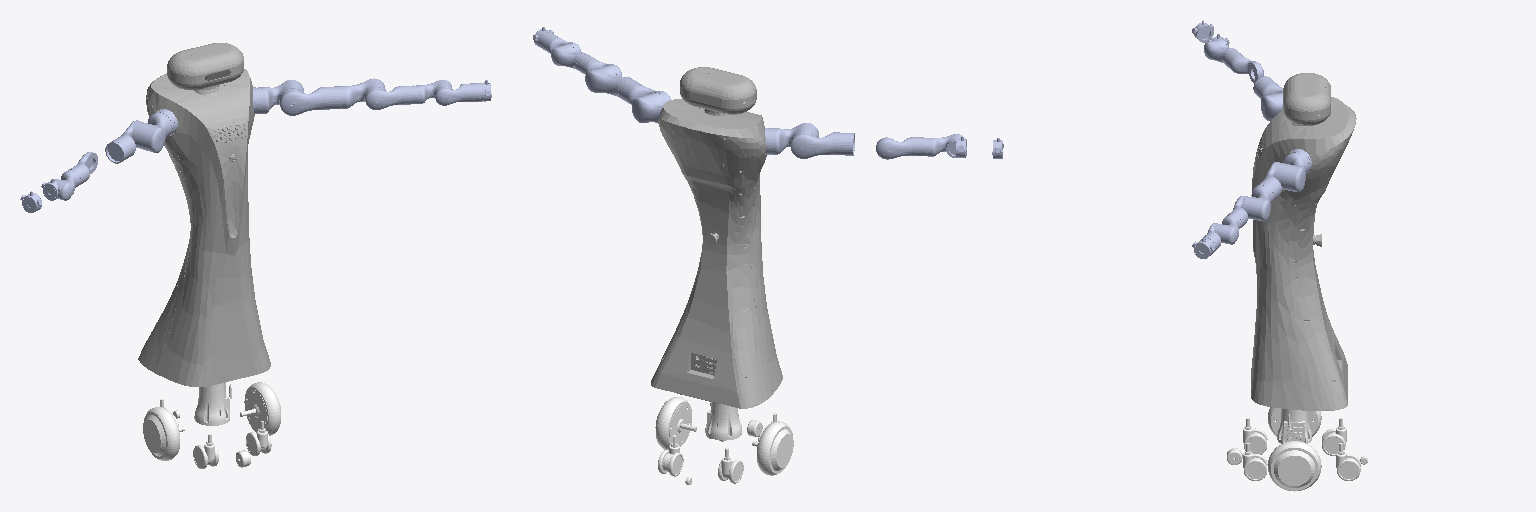
--- Render facts (derived) ---
Views: 3 orthographic renders of the robot side by side, from view 1: azimuth 30°, elevation 25°; view 2: azimuth 150°, elevation 25°; view 3: azimuth 270°, elevation 25°.
Model dual_rm_description with 61 links and 60 joints (40 revolute, 20 fixed), rooted at base_link, posed every joint at zero.
Visible links, largest first — view 1: body_base_link, head_link2, l_wheel_link, r_wheel_link, l_link2, base_link, r_link1, l_link4, l_link6, r_link2, l_link1, l_link3; view 2: body_base_link, head_link2, l_wheel_link, r_wheel_link, r_link2, base_link, r_link3, l_link3, l_link1, r_link1, l_link2, r_link5 (+1 smaller); view 3: body_base_link, head_link2, r_wheel_link, l_link1, base_link, l_link3, l_wheel_link, l_link5.
Boxes of the visible links, bbox=[...] form: body_base_link: bbox=[138, 69, 270, 386]; head_link2: bbox=[167, 43, 243, 89]; l_wheel_link: bbox=[143, 407, 184, 460]; r_wheel_link: bbox=[240, 382, 280, 435]; l_link2: bbox=[280, 86, 342, 115]; base_link: bbox=[194, 382, 231, 425]; r_link1: bbox=[131, 112, 172, 152]; l_link4: bbox=[365, 85, 417, 109]; l_link6: bbox=[435, 83, 481, 105]; r_link2: bbox=[105, 120, 140, 163]; l_link1: bbox=[259, 80, 304, 113]; l_link3: bbox=[342, 78, 385, 108]; body_base_link: bbox=[651, 99, 782, 408]; head_link2: bbox=[680, 67, 756, 114]; l_wheel_link: bbox=[752, 421, 793, 475]; r_wheel_link: bbox=[655, 397, 696, 449]; r_link2: bbox=[790, 132, 854, 158]; base_link: bbox=[707, 402, 741, 440]; r_link3: bbox=[876, 137, 928, 159]; l_link3: bbox=[585, 66, 631, 97]; l_link1: bbox=[632, 92, 665, 122]; r_link1: bbox=[770, 123, 818, 154]; l_link2: bbox=[618, 78, 670, 104]; r_link5: bbox=[929, 134, 961, 157]; body_base_link: bbox=[1251, 97, 1356, 410]; head_link2: bbox=[1283, 73, 1330, 125]; r_wheel_link: bbox=[1268, 441, 1321, 491]; l_link1: bbox=[1274, 152, 1309, 191]; base_link: bbox=[1277, 409, 1311, 443]; l_link3: bbox=[1241, 185, 1272, 221]; l_wheel_link: bbox=[1268, 407, 1321, 436]; l_link5: bbox=[1214, 215, 1240, 244].
Bounding box of the posed robot: 1.66 × 0.5527 × 1.32 m (x, y, z).
35 mesh visuals loaded from 61 distinct referenced files (35 binary STL); not drawn: 26 (reference not matched to a file when rendering).

robot.urdf — dual_rm_description:
<?xml version="1.0" encoding="utf-8"?>
<!-- This URDF was automatically created by SolidWorks to URDF Exporter! Originally created by Stephen Brawner ([email redacted]) 
     Commit Version: 1.6.0-4-g7f85cfe  Build Version: 1.6.7995.38578
     For more information, please see http://wiki.ros.org/sw_urdf_exporter -->
<robot name="dual_rm_description">
  <link name="body_base_link">
    <inertial>
      <origin xyz="9.1042E-05 0.0090147 0.4566" rpy="0 0 0" />
      <mass value="4.7837" />
      <inertia ixx="0.23517" ixy="-3.192E-05" ixz="-0.00010587" iyy="0.25285" iyz="-0.018085" izz="0.047071" />
    </inertial>
    <visual>
      <origin xyz="0 0 0" rpy="0 0 0" />
      <geometry>
        <mesh filename="package://meshes/body_base_link.STL" />
      </geometry>
      <material name="">
        <color rgba="0.75294 0.75294 0.75294 1" />
      </material>
    </visual>
    <collision>
      <origin xyz="0 0 0" rpy="0 0 0" />
      <geometry>
        <mesh filename="package://meshes/body_base_link.STL" />
      </geometry>
    </collision>
  </link>
  <link name="head_link1">
    <inertial>
      <origin xyz="0.0001875 0.00096505 -0.016651" rpy="0 0 0" />
      <mass value="0.045769" />
      <inertia ixx="1.3234E-05" ixy="8.4883E-10" ixz="-7.4126E-08" iyy="1.9277E-05" iyz="9.0908E-07" izz="1.087E-05" />
    </inertial>
    <visual>
      <origin xyz="0 0 0" rpy="0 0 0" />
      <geometry>
        <mesh filename="package://meshes/head_link1.STL" />
      </geometry>
      <material name="">
        <color rgba="0.75294 0.75294 0.75294 1" />
      </material>
    </visual>
    <collision>
      <origin xyz="0 0 0" rpy="0 0 0" />
      <geometry>
        <mesh filename="package://meshes/head_link1.STL" />
      </geometry>
    </collision>
  </link>
  <joint name="head_joint1" type="revolute">
    <origin xyz="0 0.0405 0.96325" rpy="0 0 3.1416" />
    <parent link="body_base_link" />
    <child link="head_link1" />
    <axis xyz="0 0 -1" />
    <limit lower="-1.256" upper="1.256" effort="2" velocity="1.57" />
  </joint>
  <link name="head_link2">
    <inertial>
      <origin xyz="0.00049959 0.0049121 0.034146" rpy="0 0 0" />
      <mass value="0.3269" />
      <inertia ixx="0.00049217" ixy="1.368E-08" ixz="-4.1034E-08" iyy="0.0020328" iyz="-5.5292E-07" izz="0.0018375" />
    </inertial>
    <visual>
      <origin xyz="0 0 0" rpy="0 0 0" />
      <geometry>
        <mesh filename="package://meshes/head_link2.STL" />
      </geometry>
      <material name="">
        <color rgba="0.75294 0.75294 0.75294 1" />
      </material>
    </visual>
    <collision>
      <origin xyz="0 0 0" rpy="0 0 0" />
      <geometry>
        <mesh filename="package://meshes/head_link2.STL" />
      </geometry>
    </collision>
  </link>
  <joint name="head_joint2" type="revolute">
    <origin xyz="0 0 0" rpy="0 0 0" />
    <parent link="head_link1" />
    <child link="head_link2" />
    <axis xyz="1 0 0" />
    <limit lower="-0.419" upper="0.419" effort="2" velocity="1.57" />
  </joint>
  <link name="camera_link">
    <inertial>
      <origin xyz="-0.00024784 0.0019815 0.012439" rpy="0 0 0" />
      <mass value="0.04614" />
      <inertia ixx="4.0634E-06" ixy="-2.5882E-07" ixz="3.2692E-09" iyy="2.8364E-05" iyz="-1.3826E-09" izz="2.8417E-05" />
    </inertial>
    <visual>
      <origin xyz="0 0 0" rpy="0 0 0" />
      <geometry>
        <mesh filename="package://meshes/camera_link.STL" />
      </geometry>
      <material name="">
        <color rgba="0.50196 0.50196 0.50196 1" />
      </material>
    </visual>
    <collision>
      <origin xyz="0 0 0" rpy="0 0 0" />
      <geometry>
        <mesh filename="package://meshes/camera_link.STL" />
      </geometry>
    </collision>
  </link>
  <joint name="camera_joint" type="fixed">
    <origin xyz="0.0005 0.06055 0.018" rpy="0 0 0" />
    <parent link="head_link2" />
    <child link="camera_link" />
    <axis xyz="0 0 0" />
    <limit lower="-0.419" upper="0.419" effort="2" velocity="1.57" />
  </joint>
  <link name="r_base_link1">
    <inertial>
      <origin xyz="-0.00012516 -0.010809 -0.0025" rpy="0 0 0" />
      <mass value="0.066996" />
      <inertia ixx="9.1718E-05" ixy="3.885E-07" ixz="1.6194E-21" iyy="7.8373E-05" iyz="-7.0995E-21" izz="0.00016981" />
    </inertial>
    <visual>
      <origin xyz="0 0 0" rpy="0 0 0" />
      <geometry>
        <mesh filename="package://meshes/r_base_link1.STL" />
      </geometry>
      <material name="">
        <color rgba="0.75294 0.75294 0.75294 1" />
      </material>
    </visual>
    <collision>
      <origin xyz="0 0 0" rpy="0 0 0" />
      <geometry>
        <mesh filename="package://meshes/r_base_link1.STL" />
      </geometry>
    </collision>
  </link>
  <joint name="l_base_joint1" type="fixed">
    <origin xyz="-0.045916 0.068353 0.8505" rpy="0.43633 -1.5708 0" />
    <parent link="body_base_link" />
    <child link="r_base_link1" />
    <axis xyz="0 0 0" />
  </joint>
  <link name="l_base_link1">
    <inertial>
      <origin xyz="-0.00012516 0.010809 -0.0025" rpy="0 0 0" />
      <mass value="0.066996" />
      <inertia ixx="9.1718E-05" ixy="-3.885E-07" ixz="1.4433E-21" iyy="7.8373E-05" iyz="1.2294E-20" izz="0.00016981" />
    </inertial>
    <visual>
      <origin xyz="0 0 0" rpy="0 0 0" />
      <geometry>
        <mesh filename="package://meshes/l_base_link1.STL" />
      </geometry>
      <material name="">
        <color rgba="0.75294 0.75294 0.75294 1" />
      </material>
    </visual>
    <collision>
      <origin xyz="0 0 0" rpy="0 0 0" />
      <geometry>
        <mesh filename="package://meshes/l_base_link1.STL" />
      </geometry>
    </collision>
  </link>
  <joint name="r_base_joint1" type="fixed">
    <origin xyz="0.045832 0.068171 0.8505" rpy="2.7053 -1.5708 0" />
    <parent link="body_base_link" />
    <child link="l_base_link1" />
    <axis xyz="0 0 0" />
  </joint>


  <!--  RM75-B左臂和身体的连接joint  -->

  <joint name="l_body_arm_joint" type="fixed">
    <origin xyz="0 0 0" rpy="0 0 0" />
    <parent link="l_base_link1" />
    <child link="l_base_link" />
    <axis xyz="0 0 0" />
  </joint>


  <!--  RM75-B左臂  -->


  <link name="l_base_link">
    <inertial>
      <origin xyz="0.00033272 2.2512E-05 0.060153" rpy="0 0 0" />
      <mass value="0.83984" />
      <inertia ixx="0.0017115" ixy="4.0323E-06" ixz="4.7031E-05" iyy="0.0016829" iyz="-1.8604E-06" izz="0.00089155" />
    </inertial>
    <visual>
      <origin xyz="0 0 0" rpy="0 0 0" />
      <geometry>
        <mesh filename="package://meshes/l_base_link.STL" />
      </geometry>
      <material name="">
        <color rgba="0.79216 0.81961 0.93333 1" />
      </material>
    </visual>
    <collision>
      <origin xyz="0 0 0" rpy="0 0 0" />
      <geometry>
        <mesh filename="package://meshes/l_base_link.STL" />
      </geometry>
    </collision>
  </link>
  <link name="l_link1">
    <inertial>
      <origin xyz="2.9692E-07 0.025188 -0.021107" rpy="0 0 0" />
      <mass value="0.59353" />
      <inertia ixx="0.0012661" ixy="-2.1134E-09" ixz="-5.3685E-09" iyy="0.00056131" iyz="-0.00021118" izz="0.0011816" />
    </inertial>
    <visual>
      <origin xyz="0 0 0" rpy="0 0 0" />
      <geometry>
        <mesh filename="package://meshes/l_link1.STL" />
      </geometry>
      <material name="">
        <color rgba="0.79216 0.81961 0.93333 1" />
      </material>
    </visual>
    <collision>
      <origin xyz="0 0 0" rpy="0 0 0" />
      <geometry>
        <mesh filename="package://meshes/l_link1.STL" />
      </geometry>
    </collision>
  </link>
  <joint name="l_joint1" type="revolute">
    <origin xyz="0 0 0.2405" rpy="-1.5708 0 0" />
    <parent link="l_base_link" />
    <child link="l_link1" />
    <axis xyz="0 -1 0" />
    <limit lower="-3.11" upper="3.11" effort="60" velocity="3.14" />
  </joint>
  <link name="l_link2">
    <inertial>
      <origin xyz="3.7598E-07 0.011077 0.07613" rpy="0 0 0" />
      <mass value="0.43285" />
      <inertia ixx="0.0012584" ixy="7.8046E-10" ixz="3.3823E-09" iyy="0.0012224" iyz="0.00027899" izz="0.00031747" />
    </inertial>
    <visual>
      <origin xyz="0 0 0" rpy="0 0 0" />
      <geometry>
        <mesh filename="package://meshes/l_link2.STL" />
      </geometry>
      <material name="">
        <color rgba="0.79216 0.81961 0.93333 1" />
      </material>
    </visual>
    <collision>
      <origin xyz="0 0 0" rpy="0 0 0" />
      <geometry>
        <mesh filename="package://meshes/l_link2.STL" />
      </geometry>
    </collision>
  </link>
  <joint name="l_joint2" type="revolute">
    <origin xyz="0 0 0" rpy="1.5708 0 0" />
    <parent link="l_link1" />
    <child link="l_link2" />
    <axis xyz="0 1 0" />
    <limit lower="-2.27" upper="2.27" effort="60" velocity="3.14" />
  </joint>
  <link name="l_link3">
    <inertial>
      <origin xyz="1.1341E-07 0.027347 -0.023544" rpy="0 0 0" />
      <mass value="0.43132" />
      <inertia ixx="0.00079434" ixy="1.4278E-09" ixz="2.8253E-09" iyy="0.00031506" iyz="-0.00014262" izz="0.00073038" />
    </inertial>
    <visual>
      <origin xyz="0 0 0" rpy="0 0 0" />
      <geometry>
        <mesh filename="package://meshes/l_link3.STL" />
      </geometry>
      <material name="">
        <color rgba="0.79216 0.81961 0.93333 1" />
      </material>
    </visual>
    <collision>
      <origin xyz="0 0 0" rpy="0 0 0" />
      <geometry>
        <mesh filename="package://meshes/l_link3.STL" />
      </geometry>
    </collision>
  </link>
  <joint name="l_joint3" type="revolute">
    <origin xyz="0 0 0.256" rpy="-1.5708 0 0" />
    <parent link="l_link2" />
    <child link="l_link3" />
    <axis xyz="0 -1 0" />
    <limit lower="-3.11" upper="3.11" effort="30" velocity="3.925" />
  </joint>
  <link name="l_link4">
    <inertial>
      <origin xyz="4.7315E-06 0.010268 0.059592" rpy="0 0 0" />
      <mass value="0.28963" />
      <inertia ixx="0.00063737" ixy="-3.5036E-08" ixz="6.2577E-08" iyy="0.00061418" iyz="0.00014461" izz="0.00015649" />
    </inertial>
    <visual>
      <origin xyz="0 0 0" rpy="0 0 0" />
      <geometry>
        <mesh filename="package://meshes/l_link4.STL" />
      </geometry>
      <material name="">
        <color rgba="0.79216 0.81961 0.93333 1" />
      </material>
    </visual>
    <collision>
      <origin xyz="0 0 0" rpy="0 0 0" />
      <geometry>
        <mesh filename="package://meshes/l_link4.STL" />
      </geometry>
    </collision>
  </link>
  <joint name="l_joint4" type="revolute">
    <origin xyz="0 0 0" rpy="1.5708 0 0" />
    <parent link="l_link3" />
    <child link="l_link4" />
    <axis xyz="0 1 0" />
    <limit lower="-2.36" upper="2.36" effort="30" velocity="3.925" />
  </joint>
  <link name="l_link5">
    <inertial>
      <origin xyz="2.93E-07 0.02154 -0.018042" rpy="0 0 0" />
      <mass value="0.23942" />
      <inertia ixx="0.00028595" ixy="-1.4023E-09" ixz="-2.3584E-09" iyy="0.0001199" iyz="-4.424E-05" izz="0.00026273" />
    </inertial>
    <visual>
      <origin xyz="0 0 0" rpy="0 0 0" />
      <geometry>
        <mesh filename="package://meshes/l_link5.STL" />
      </geometry>
      <material name="">
        <color rgba="0.79216 0.81961 0.93333 1" />
      </material>
    </visual>
    <collision>
      <origin xyz="0 0 0" rpy="0 0 0" />
      <geometry>
        <mesh filename="package://meshes/l_link5.STL" />
      </geometry>
    </collision>
  </link>
  <joint name="l_joint5" type="revolute">
    <origin xyz="0 -0.00030001 0.21" rpy="-1.5708 0 0" />
    <parent link="l_link4" />
    <child link="l_link5" />
    <axis xyz="0 -1 0" />
    <limit lower="-3.11" upper="3.11" effort="10" velocity="3.925" />
  </joint>
  <link name="l_link6">
    <inertial>
      <origin xyz="4.2445E-06 0.007067 0.059381" rpy="0 0 0" />
      <mass value="0.21879" />
      <inertia ixx="0.00035053" ixy="-1.6558E-08" ixz="2.8592E-08" iyy="0.00033447" iyz="7.824E-05" izz="0.00010492" />
    </inertial>
    <visual>
      <origin xyz="0 0 0" rpy="0 0 0" />
      <geometry>
        <mesh filename="package://meshes/l_link6.STL" />
      </geometry>
      <material name="">
        <color rgba="0.79216 0.81961 0.93333 1" />
      </material>
    </visual>
    <collision>
      <origin xyz="0 0 0" rpy="0 0 0" />
      <geometry>
        <mesh filename="package://meshes/l_link6.STL" />
      </geometry>
    </collision>
  </link>
  <joint name="l_joint6" type="revolute">
    <origin xyz="0 0 0" rpy="1.5708 0 0" />
    <parent link="l_link5" />
    <child link="l_link6" />
    <axis xyz="0 1 0" />
    <limit lower="-2.23" upper="2.23" effort="10" velocity="3.925" />
  </joint>
  <link name="l_link7">
    <inertial>
      <origin xyz="0.00081845 1.3327E-05 0.016317" rpy="0 0 0" />
      <mass value="0.064802" />
      <inertia ixx="2.102E-05" ixy="-2.2708E-08" ixz="-2.4381E-08" iyy="1.7985E-05" iyz="-1.0173E-08" izz="3.1728E-05" />
    </inertial>
    <visual>
      <origin xyz="0 0 0" rpy="0 0 0" />
      <geometry>
        <mesh filename="package://meshes/l_link7.STL" />
      </geometry>
      <material name="">
        <color rgba="0.79216 0.81961 0.93333 1" />
      </material>
    </visual>
    <collision>
      <origin xyz="0 0 0" rpy="0 0 0" />
      <geometry>
        <mesh filename="package://meshes/l_link7.STL" />
      </geometry>
    </collision>
  </link>
  <joint name="l_joint7" type="revolute">
    <origin xyz="0 -0.00029971 0.115" rpy="0 0 0" />
    <parent link="l_link6" />
    <child link="l_link7" />
    <axis xyz="0 0 1" />
    <limit lower="-6.28" upper="6.28" effort="10" velocity="3.925" />
  </joint>

  <!--  RM75-B右臂和身体的连接joint  -->

  <joint name="r_body_arm_joint" type="fixed">
    <origin xyz="0 0 0" rpy="0 0 0" />
    <parent link="r_base_link1" />
    <child link="r_base_link" />
    <axis xyz="0 0 0" />
  </joint>


  <!--  RM75-B右臂  -->


  <link name="r_base_link">
    <inertial>
      <origin xyz="0.00033281 2.206E-05 0.060153" rpy="0 0 0" />
      <mass value="0.83984" />
      <inertia ixx="0.0017115" ixy="4.0276E-06" ixz="4.7032E-05" iyy="0.0016829" iyz="-1.8665E-06" izz="0.00089154" />
    </inertial>
    <visual>
      <origin xyz="0 0 0" rpy="0 0 0" />
      <geometry>
        <mesh filename="package://meshes/r_base_link.STL" />
      </geometry>
      <material name="">
        <color rgba="0.79216 0.81961 0.93333 1" />
      </material>
    </visual>
    <collision>
      <origin xyz="0 0 0" rpy="0 0 0" />
      <geometry>
        <mesh filename="package://meshes/r_base_link.STL" />
      </geometry>
    </collision>
  </link>
  <link name="r_link1">
    <inertial>
      <origin xyz="2.8966E-07 0.025188 -0.021107" rpy="0 0 0" />
      <mass value="0.59353" />
      <inertia ixx="0.0012661" ixy="-2.0397E-09" ixz="-5.3423E-09" iyy="0.00056131" iyz="-0.00021118" izz="0.0011816" />
    </inertial>
    <visual>
      <origin xyz="0 0 0" rpy="0 0 0" />
      <geometry>
        <mesh filename="package://meshes/r_link1.STL" />
      </geometry>
      <material name="">
        <color rgba="0.79216 0.81961 0.93333 1" />
      </material>
    </visual>
    <collision>
      <origin xyz="0 0 0" rpy="0 0 0" />
      <geometry>
        <mesh filename="package://meshes/r_link1.STL" />
      </geometry>
    </collision>
  </link>
  <joint name="r_joint1" type="revolute">
    <origin xyz="0 0 0.2405" rpy="-1.5708 0 0" />
    <parent link="r_base_link" />
    <child link="r_link1" />
    <axis xyz="0 -1 0" />
    <limit lower="-3.11" upper="3.11" effort="60" velocity="3.14" />
  </joint>
  <link name="r_link2">
    <inertial>
      <origin xyz="3.7069E-07 0.011077 0.07613" rpy="0 0 0" />
      <mass value="0.43285" />
      <inertia ixx="0.0012584" ixy="7.782E-10" ixz="3.39E-09" iyy="0.0012224" iyz="0.00027899" izz="0.00031747" />
    </inertial>
    <visual>
      <origin xyz="0 0 0" rpy="0 0 0" />
      <geometry>
        <mesh filename="package://meshes/r_link2.STL" />
      </geometry>
      <material name="">
        <color rgba="0.79216 0.81961 0.93333 1" />
      </material>
    </visual>
    <collision>
      <origin xyz="0 0 0" rpy="0 0 0" />
      <geometry>
        <mesh filename="package://meshes/r_link2.STL" />
      </geometry>
    </collision>
  </link>
  <joint name="r_joint2" type="revolute">
    <origin xyz="0 0 0" rpy="1.5708 0 0" />
    <parent link="r_link1" />
    <child link="r_link2" />
    <axis xyz="0 1 0" />
    <limit lower="-2.27" upper="2.27" effort="60" velocity="3.14" />
  </joint>
  <link name="r_link3">
    <inertial>
      <origin xyz="1.192E-07 0.027347 -0.023544" rpy="0 0 0" />
      <mass value="0.43132" />
      <inertia ixx="0.00079434" ixy="1.4708E-09" ixz="2.8344E-09" iyy="0.00031506" iyz="-0.00014262" izz="0.00073038" />
    </inertial>
    <visual>
      <origin xyz="0 0 0" rpy="0 0 0" />
      <geometry>
        <mesh filename="package://meshes/r_link3.STL" />
      </geometry>
      <material name="">
        <color rgba="0.79216 0.81961 0.93333 1" />
      </material>
    </visual>
    <collision>
      <origin xyz="0 0 0" rpy="0 0 0" />
      <geometry>
        <mesh filename="package://meshes/r_link3.STL" />
      </geometry>
    </collision>
  </link>
  <joint name="r_joint3" type="revolute">
    <origin xyz="0 0 0.256" rpy="-1.5708 0 0" />
    <parent link="r_link2" />
    <child link="r_link3" />
    <axis xyz="0 -1 0" />
    <limit lower="-3.11" upper="3.11" effort="30" velocity="3.925" />
  </joint>
  <link name="r_link4">
    <inertial>
      <origin xyz="4.7388E-06 0.010268 0.059592" rpy="0 0 0" />
      <mass value="0.28963" />
      <inertia ixx="0.00063737" ixy="-3.5039E-08" ixz="6.2578E-08" iyy="0.00061418" iyz="0.00014461" izz="0.00015649" />
    </inertial>
    <visual>
      <origin xyz="0 0 0" rpy="0 0 0" />
      <geometry>
        <mesh filename="package://meshes/r_link4.STL" />
      </geometry>
      <material name="">
        <color rgba="0.79216 0.81961 0.93333 1" />
      </material>
    </visual>
    <collision>
      <origin xyz="0 0 0" rpy="0 0 0" />
      <geometry>
        <mesh filename="package://meshes/r_link4.STL" />
      </geometry>
    </collision>
  </link>
  <joint name="r_joint4" type="revolute">
    <origin xyz="0 0 0" rpy="1.5708 0 0" />
    <parent link="r_link3" />
    <child link="r_link4" />
    <axis xyz="0 1 0" />
    <limit lower="-2.36" upper="2.36" effort="30" velocity="3.925" />
  </joint>
  <link name="r_link5">
    <inertial>
      <origin xyz="2.9088E-07 0.02154 -0.018042" rpy="0 0 0" />
      <mass value="0.23942" />
      <inertia ixx="0.00028595" ixy="-1.386E-09" ixz="-2.3541E-09" iyy="0.0001199" iyz="-4.424E-05" izz="0.00026273" />
    </inertial>
    <visual>
      <origin xyz="0 0 0" rpy="0 0 0" />
      <geometry>
        <mesh filename="package://meshes/r_link5.STL" />
      </geometry>
      <material name="">
        <color rgba="0.79216 0.81961 0.93333 1" />
      </material>
    </visual>
    <collision>
      <origin xyz="0 0 0" rpy="0 0 0" />
      <geometry>
        <mesh filename="package://meshes/r_link5.STL" />
      </geometry>
    </collision>
  </link>
  <joint name="r_joint5" type="revolute">
    <origin xyz="0 -0.00030007 0.21" rpy="-1.5708 0 0" />
    <parent link="r_link4" />
    <child link="r_link5" />
    <axis xyz="0 -1 0" />
    <limit lower="-3.11" upper="3.11" effort="10" velocity="3.925" />
  </joint>
  <link name="r_link6">
    <inertial>
      <origin xyz="4.247E-06 0.0070761 0.05938" rpy="0 0 0" />
      <mass value="0.21879" />
      <inertia ixx="0.00035053" ixy="-1.6543E-08" ixz="2.8572E-08" iyy="0.0003345" iyz="7.8205E-05" izz="0.0001049" />
    </inertial>
    <visual>
      <origin xyz="0 0 0" rpy="0 0 0" />
      <geometry>
        <mesh filename="package://meshes/r_link6.STL" />
      </geometry>
      <material name="">
        <color rgba="0.79216 0.81961 0.93333 1" />
      </material>
    </visual>
    <collision>
      <origin xyz="0 0 0" rpy="0 0 0" />
      <geometry>
        <mesh filename="package://meshes/r_link6.STL" />
      </geometry>
    </collision>
  </link>
  <joint name="r_joint6" type="revolute">
    <origin xyz="0 0 0" rpy="1.5709 0 0" />
    <parent link="r_link5" />
    <child link="r_link6" />
    <axis xyz="0 1 0" />
    <limit lower="-2.23" upper="2.23" effort="10" velocity="3.925" />
  </joint>
  <link name="r_link7">
    <inertial>
      <origin xyz="0.00081845 1.3321E-05 0.026292" rpy="0 0 0" />
      <mass value="0.064802" />
      <inertia ixx="2.102E-05" ixy="-2.2708E-08" ixz="-2.4381E-08" iyy="1.7985E-05" iyz="-1.0173E-08" izz="3.1728E-05" />
    </inertial>
    <visual>
      <origin xyz="0 0 0" rpy="0 0 0" />
      <geometry>
        <mesh filename="package://meshes/r_link7.STL" />
      </geometry>
      <material name="">
        <color rgba="0.79216 0.81961 0.93333 1" />
      </material>
    </visual>
    <collision>
      <origin xyz="0 0 0" rpy="0 0 0" />
      <geometry>
        <mesh filename="package://meshes/r_link7.STL" />
      </geometry>
    </collision>
  </link>
  <joint name="r_joint7" type="revolute">
    <origin xyz="0 -0.00028365 0.10503" rpy="-0.00015298 0 0" />
    <parent link="r_link6" />
    <child link="r_link7" />
    <axis xyz="0 0 1" />
    <limit lower="-6.28" upper="6.28" effort="10" velocity="3.925" />
  </joint>

  <!-- 底盘和主体连接joint -->

  <joint name="dipan_zhuti_joint" type="fixed">
    <origin xyz="0 0 0.18" rpy="0 0 0" />
    <parent link="base_link" />
    <child link="body_base_link" />
    <axis xyz="0 0 0" />

  </joint>

  <!-- 底盘 -->

  <link name="base_link">
    <inertial>
      <origin xyz="-0.00022588 -0.029317 0.067118" rpy="0 0 0" />
      <mass value="3.652" />
      <inertia ixx="0.040658" ixy="-4.1019E-05" ixz="0.00010805" iyy="0.085621" iyz="-0.00031013" izz="0.10712" />
    </inertial>
    <visual>
      <origin xyz="0 0 0" rpy="0 0 0" />
      <geometry>
        <mesh filename="package://meshes/base_link.STL" />
      </geometry>
      <material name="">
        <color rgba="1 1 1 1" />
      </material>
    </visual>
    <collision>
      <origin xyz="0 0 0" rpy="0 0 0" />
      <geometry>
        <mesh filename="package://meshes/base_link.STL" />
      </geometry>
    </collision>
  </link>
  <link name="r_wheel_link">
    <inertial>
      <origin xyz="0.33262 3.4018E-06 3.7026E-06" rpy="0 0 0" />
      <mass value="1.1012" />
      <inertia ixx="0.003396" ixy="2.2501E-07" ixz="2.3628E-07" iyy="0.001988" iyz="1.5358E-08" izz="0.001988" />
    </inertial>
    <visual>
      <origin xyz="0 0 0" rpy="0 0 0" />
      <geometry>
        <mesh filename="package://meshes/r_wheel_link.STL" />
      </geometry>
      <material name="">
        <color rgba="1 1 1 1" />
      </material>
    </visual>
    <collision>
      <origin xyz="0 0 0" rpy="0 0 0" />
      <geometry>
        <mesh filename="package://meshes/r_wheel_link.STL" />
      </geometry>
    </collision>
  </link>
  <joint name="r_wheel_joint_1" type="fixed">
    <origin xyz="-0.151 0 -0.0109" rpy="0 0 0" />
    <parent link="base_link" />
    <child link="r_wheel_link" />
    <axis xyz="1 0 0" />
  </joint>
  <link name="l_wheel_link">
    <inertial>
      <origin xyz="-0.33262 9.1102E-08 5.0272E-06" rpy="0 0 0" />
      <mass value="1.1012" />
      <inertia ixx="0.003396" ixy="-7.5162E-11" ixz="-3.2628E-07" iyy="0.001988" iyz="-2.7338E-15" izz="0.001988" />
    </inertial>
    <visual>
      <origin xyz="0 0 0" rpy="0 0 0" />
      <geometry>
        <mesh filename="package://meshes/l_wheel_link.STL" />
      </geometry>
      <material name="">
        <color rgba="1 1 1 1" />
      </material>
    </visual>
    <collision>
      <origin xyz="0 0 0" rpy="0 0 0" />
      <geometry>
        <mesh filename="package://meshes/l_wheel_link.STL" />
      </geometry>
    </collision>
  </link>
  <joint name="l_wheel_joint2" type="fixed">
    <origin xyz="0.151 0 -0.0109" rpy="0 0 0" />
    <parent link="base_link" />
    <child link="l_wheel_link" />
    <axis xyz="1 0 0" />
  </joint>
  <link name="min_wheel_link1">
    <inertial>
      <origin xyz="0.0065 4.231E-08 -2.8631E-08" rpy="0 0 0" />
      <mass value="0.0059492" />
      <inertia ixx="4.5784E-07" ixy="-2.2073E-13" ixz="3.9671E-13" iyy="3.0694E-07" iyz="-1.2059E-12" izz="3.0694E-07" />
    </inertial>
    <visual>
      <origin xyz="0 0 0" rpy="0 0 0" />
      <geometry>
        <mesh filename="package://meshes/min_wheel_link1.STL" />
      </geometry>
      <material name="">
        <color rgba="1 1 1 1" />
      </material>
    </visual>
    <collision>
      <origin xyz="0 0 0" rpy="0 0 0" />
      <geometry>
        <mesh filename="package://meshes/min_wheel_link1.STL" />
      </geometry>
    </collision>
  </link>
  <joint name="min_wheel_joint" type="fixed">
    <origin xyz="-0.0065 0.218 -0.0745" rpy="0 0 0" />
    <parent link="base_link" />
    <child link="min_wheel_link1" />
    <axis xyz="-1 0 0" />
  </joint>
  <link name="medium_wheel_link2">
    <inertial>
      <origin xyz="0.015 0 0" rpy="0 0 0" />
      <mass value="0.055849" />
      <inertia ixx="1.7473E-05" ixy="7.0072E-12" ixz="-1.4822E-11" iyy="1.2735E-05" iyz="-1.8244E-10" izz="1.2735E-05" />
    </inertial>
    <visual>
      <origin xyz="0 0 0" rpy="0 0 0" />
      <geometry>
        <mesh filename="package://meshes/medium_wheel_link2.STL" />
      </geometry>
      <material name="">
        <color rgba="1 1 1 1" />
      </material>
    </visual>
    <collision>
      <origin xyz="0 0 0" rpy="0 0 0" />
      <geometry>
        <mesh filename="package://meshes/medium_wheel_link2.STL" />
      </geometry>
    </collision>
  </link>
  <joint name="medium_wheel_joint2" type="fixed">
    <origin xyz="-0.014 -0.188 -0.061" rpy="0 0 0" />
    <parent link="base_link" />
    <child link="medium_wheel_link2" />
    <axis xyz="-1 0 0" />
  </joint>
  <link name="swivel_wheel_link1_1">
    <inertial>
      <origin xyz="6.9718E-08 -0.0021717 0.034797" rpy="0 0 0" />
      <mass value="0.033248" />
      <inertia ixx="1.1034E-05" ixy="-2.1793E-11" ixz="-4.5884E-11" iyy="1.084E-05" iyz="-1.5008E-06" izz="3.8134E-06" />
    </inertial>
    <visual>
      <origin xyz="0 0 0" rpy="0 0 0" />
      <geometry>
        <mesh filename="package://meshes/swivel_wheel_link1_1.STL" />
      </geometry>
      <material name="">
        <color rgba="1 1 1 1" />
      </material>
    </visual>
    <collision>
      <origin xyz="0 0 0" rpy="0 0 0" />
      <geometry>
        <mesh filename="package://meshes/swivel_wheel_link1_1.STL" />
      </geometry>
    </collision>
  </link>
  <joint name="swivel_wheel_joint1_1" type="fixed">
    <origin xyz="-0.093 -0.146 -0.0552" rpy="0 0 0" />
    <parent link="base_link" />
    <child link="swivel_wheel_link1_1" />
    <axis xyz="0 0 1" />
  </joint>
  <link name="swivel_wheel_link1_2">
    <inertial>
      <origin xyz="-1.0802E-07 -2.8487E-07 -4.6142E-07" rpy="0 0 0" />
      <mass value="0.17673" />
      <inertia ixx="0.00010419" ixy="-2.299E-10" ixz="-2.8569E-10" iyy="9.7392E-05" iyz="1.9391E-09" izz="9.7391E-05" />
    </inertial>
    <visual>
      <origin xyz="0 0 0" rpy="0 0 0" />
      <geometry>
        <mesh filename="package://meshes/swivel_wheel_link1_2.STL" />
      </geometry>
      <material name="">
        <color rgba="1 1 1 1" />
      </material>
    </visual>
    <collision>
      <origin xyz="0 0 0" rpy="0 0 0" />
      <geometry>
        <mesh filename="package://meshes/swivel_wheel_link1_2.STL" />
      </geometry>
    </collision>
  </link>
  <joint name="swivel_wheel_joint_1_2" type="fixed">
    <origin xyz="0 0.0235 0" rpy="0 0 0" />
    <parent link="swivel_wheel_link1_1" />
    <child link="swivel_wheel_link1_2" />
    <axis xyz="-1 0 0" />
  </joint>
  <link name="swivel_wheel_link2_1">
    <inertial>
      <origin xyz="6.9718E-08 -0.0021717 0.034797" rpy="0 0 0" />
      <mass value="0.033248" />
      <inertia ixx="1.1034E-05" ixy="-2.1793E-11" ixz="-4.5884E-11" iyy="1.084E-05" iyz="-1.5008E-06" izz="3.8134E-06" />
    </inertial>
    <visual>
      <origin xyz="0 0 0" rpy="0 0 0" />
      <geometry>
        <mesh filename="package://meshes/swivel_wheel_link2_1.STL" />
      </geometry>
      <material name="">
        <color rgba="1 1 1 1" />
      </material>
    </visual>
    <collision>
      <origin xyz="0 0 0" rpy="0 0 0" />
      <geometry>
        <mesh filename="package://meshes/swivel_wheel_link2_1.STL" />
      </geometry>
    </collision>
  </link>
  <joint name="swivel_wheel_joint2_1" type="fixed">
    <origin xyz="0.093 -0.146 -0.0552" rpy="0 0 0" />
    <parent link="base_link" />
    <child link="swivel_wheel_link2_1" />
    <axis xyz="0 0 1" />
  </joint>
  <link name="swivel_wheel_link2_2">
    <inertial>
      <origin xyz="-1.0802E-07 -2.8487E-07 -4.6142E-07" rpy="0 0 0" />
      <mass value="0.17673" />
      <inertia ixx="0.00010419" ixy="-2.299E-10" ixz="-2.8569E-10" iyy="9.7392E-05" iyz="1.9391E-09" izz="9.7391E-05" />
    </inertial>
    <visual>
      <origin xyz="0 0 0" rpy="0 0 0" />
      <geometry>
        <mesh filename="package://meshes/swivel_wheel_link2_2.STL" />
      </geometry>
      <material name="">
        <color rgba="1 1 1 1" />
      </material>
    </visual>
    <collision>
      <origin xyz="0 0 0" rpy="0 0 0" />
      <geometry>
        <mesh filename="package://meshes/swivel_wheel_link2_2.STL" />
      </geometry>
    </collision>
  </link>
  <joint name="swivel_wheel_joint2_2" type="fixed">
    <origin xyz="0 0.0235 0" rpy="0 0 0" />
    <parent link="swivel_wheel_link2_1" />
    <child link="swivel_wheel_link2_2" />
    <axis xyz="-1 0 0" />
  </joint>
  <link name="swivel_wheel_link3_1">
    <inertial>
      <origin xyz="-6.9718E-08 0.0021717 0.034797" rpy="0 0 0" />
      <mass value="0.033248" />
      <inertia ixx="1.1034E-05" ixy="-2.1793E-11" ixz="4.5884E-11" iyy="1.084E-05" iyz="1.5008E-06" izz="3.8134E-06" />
    </inertial>
    <visual>
      <origin xyz="0 0 0" rpy="0 0 0" />
      <geometry>
        <mesh filename="package://meshes/swivel_wheel_link3_1.STL" />
      </geometry>
      <material name="">
        <color rgba="1 1 1 1" />
      </material>
    </visual>
    <collision>
      <origin xyz="0 0 0" rpy="0 0 0" />
      <geometry>
        <mesh filename="package://meshes/swivel_wheel_link3_1.STL" />
      </geometry>
    </collision>
  </link>
  <joint name="swivel_wheel_joint3_1" type="fixed">
    <origin xyz="-0.093 0.146 -0.0552" rpy="0 0 0" />
    <parent link="base_link" />
    <child link="swivel_wheel_link3_1" />
    <axis xyz="0 0 1" />
  </joint>
  <link name="swivel_wheel_link3_2">
    <inertial>
      <origin xyz="1.0802E-07 2.8487E-07 -4.6142E-07" rpy="0 0 0" />
      <mass value="0.17673" />
      <inertia ixx="0.00010419" ixy="-2.299E-10" ixz="2.8569E-10" iyy="9.7392E-05" iyz="-1.9391E-09" izz="9.7391E-05" />
    </inertial>
    <visual>
      <origin xyz="0 0 0" rpy="0 0 0" />
      <geometry>
        <mesh filename="package://meshes/swivel_wheel_link3_2.STL" />
      </geometry>
      <material name="">
        <color rgba="1 1 1 1" />
      </material>
    </visual>
    <collision>
      <origin xyz="0 0 0" rpy="0 0 0" />
      <geometry>
        <mesh filename="package://meshes/swivel_wheel_link3_2.STL" />
      </geometry>
    </collision>
  </link>
  <joint name="swivel_wheel_joint3_2" type="fixed">
    <origin xyz="0 -0.0235 0" rpy="0 0 0" />
    <parent link="swivel_wheel_link3_1" />
    <child link="swivel_wheel_link3_2" />
    <axis xyz="1 0 0" />
  </joint>
  <link name="swivel_wheel_link4_1">
    <inertial>
      <origin xyz="6.9718E-08 -0.0021717 0.034797" rpy="0 0 0" />
      <mass value="0.033248" />
      <inertia ixx="1.1034E-05" ixy="-2.1793E-11" ixz="-4.5884E-11" iyy="1.084E-05" iyz="-1.5008E-06" izz="3.8134E-06" />
    </inertial>
    <visual>
      <origin xyz="0 0 0" rpy="0 0 0" />
      <geometry>
        <mesh filename="package://meshes/swivel_wheel_link4_1.STL" />
      </geometry>
      <material name="">
        <color rgba="1 1 1 1" />
      </material>
    </visual>
    <collision>
      <origin xyz="0 0 0" rpy="0 0 0" />
      <geometry>
        <mesh filename="package://meshes/swivel_wheel_link4_1.STL" />
      </geometry>
    </collision>
  </link>
  <joint name="swivel_wheel_joint4_1" type="fixed">
    <origin xyz="0.093 0.146 -0.0552" rpy="0 0 0" />
    <parent link="base_link" />
    <child link="swivel_wheel_link4_1" />
    <axis xyz="0 0 1" />
  </joint>
  <link name="swivel_wheel_link4_2">
    <inertial>
      <origin xyz="-1.0802E-07 0.0235 -4.6142E-07" rpy="0 0 0" />
      <mass value="0.17673" />
      <inertia ixx="0.00010419" ixy="-2.299E-10" ixz="-2.8569E-10" iyy="9.7392E-05" iyz="1.9391E-09" izz="9.7391E-05" />
    </inertial>
    <visual>
      <origin xyz="0 0 0" rpy="0 0 0" />
      <geometry>
        <mesh filename="package://meshes/swivel_wheel_link4_2.STL" />
      </geometry>
      <material name="">
        <color rgba="1 1 1 1" />
      </material>
    </visual>
    <collision>
      <origin xyz="0 0 0" rpy="0 0 0" />
      <geometry>
        <mesh filename="package://meshes/swivel_wheel_link4_2.STL" />
      </geometry>
    </collision>
  </link>
  <joint name="swivel_wheel_joint4_2" type="fixed">
    <origin xyz="0 0 0" rpy="0 0 0" />
    <parent link="swivel_wheel_link4_1" />
    <child link="swivel_wheel_link4_2" />
    <axis xyz="-1 0 0" />
  </joint>


  <!-- 左臂末端和左手灵巧手的连接joint -->

  <joint name="l_arm_hand_joint" type="fixed">
    <origin xyz="0 0 0.03" rpy="3.14 0 0" />
    <parent link="l_link7" />
    <child link="l_hand_base_link" />
    <axis xyz="0 0 0" />
  </joint>

  <!-- 左手灵巧手 -->

  <link name="l_hand_base_link">
    <inertial>
      <origin xyz="-0.0029784 -0.00742 0.084948" rpy="0 0 0" />
      <mass value="0.19133" />
      <inertia ixx="0.00048662" ixy="-4.3027E-05" ixz="-5.3339E-06" iyy="0.00050679" iyz="-2.9026E-06" izz="0.00019081" />
    </inertial>
    <visual>
      <origin xyz="0 0 0" rpy="0 0 0" />
      <geometry>
        <mesh filename="package://meshes/l_hand_base_link.STL" />
      </geometry>
      <material name="">
        <color rgba="0.75294 0.75294 0.75294 1" />
      </material>
    </visual>
    <collision>
      <origin xyz="0 0 0" rpy="0 0 0" />
      <geometry>
        <mesh filename="package://meshes/l_hand_base_link.STL" />
      </geometry>
    </collision>
  </link>
  
  <link
    name="left_thumb_1">
    <inertial>
      <origin
        xyz="0.00178423404495211 -0.000649404577309123 -0.0031358931043441"
        rpy="0 0 0" />
      <mass
        value="0.00115518743162309" />
      <inertia
        ixx="5.98912200501135E-08"
        ixy="-8.04315731947437E-09"
        ixz="-3.29346919841095E-09"
        iyy="4.07201234589857E-08"
        iyz="1.19872544716431E-09"
        izz="6.18161684388651E-08" />
    </inertial>
    <visual>
      <origin
        xyz="0 0 0"
        rpy="0 0 0" />
      <geometry>
        <mesh
          filename="package://meshes/left_thumb_1.STL" />
      </geometry>
      <material
        name="">
        <color
          rgba="0.792156862745098 0.819607843137255 0.933333333333333 1" />
      </material>
    </visual>
    <collision>
      <origin
        xyz="0 0 0"
        rpy="0 0 0" />
      <geometry>
        <mesh
          filename="package://meshes/left_thumb_1.STL" />
      </geometry>
    </collision>
  </link>
  <joint
    name="left_thumb_1_joint"
    type="revolute">
    <origin
      xyz="0.0269 -0.02101 -0.07075"
      rpy="0 0 0" />
    <parent
      link="l_hand_base_link" />
    <child
      link="left_thumb_1" />
    <axis
      xyz="0 0 -1" />
    <limit
      lower="0"
      upper="1.15"
      effort="10"
      velocity="1" />
  </joint>
  <link
    name="left_thumb_2">
    <inertial>
      <origin
        xyz="0.0141077165126408 0.013272947664556 0.00905027694248729"
        rpy="0 0 0" />
      <mass
        value="0.016" />
      <inertia
        ixx="1.06585698719649E-06"
        ixy="-7.62263321516971E-08"
        ixz="2.95033226564006E-11"
        iyy="1.06558155578278E-06"
        iyz="1.55271585897891E-11"
        izz="1.39709651951733E-06" />
    </inertial>
    <visual>
      <origin
        xyz="0 0 0"
        rpy="0 0 0" />
      <geometry>
        <mesh
          filename="package://meshes/left_thumb_2.STL" />
      </geometry>
      <material
        name="">
        <color
          rgba="0.792156862745098 0.819607843137255 0.933333333333333 1" />
      </material>
    </visual>
    <collision>
      <origin
        xyz="0 0 0"
        rpy="0 0 0" />
      <geometry>
        <mesh
          filename="package://meshes/left_thumb_2.STL" />
      </geometry>
    </collision>
  </link>
  <joint
    name="left_thumb_2_joint"
    type="revolute">
    <origin
      xyz="0.0063016 -0.011924 -0.00125"
      rpy="-1.5708 0 -0.34907" />
    <parent
      link="left_thumb_1" />
    <child
      link="left_thumb_2" />
    <axis
      xyz="0 0 1" />
    <limit
      lower="0"
      upper="0.55"
      effort="10"
      velocity="1" />
  </joint>
  <link
    name="left_thumb_3">
    <inertial>
      <origin
        xyz="0.0175210608796189 -0.000458783419545392 0.00589186777098984"
        rpy="0 0 0" />
      <mass
        value="0.012" />
      <inertia
        ixx="4.67948369620491E-07"
        ixy="-4.4974688607358E-08"
        ixz="1.01425359574474E-11"
        iyy="3.98794196148187E-07"
        iyz="2.07037920898898E-10"
        izz="4.24723917424999E-07" />
    </inertial>
    <visual>
      <origin
        xyz="0 0 0"
        rpy="0 0 0" />
      <geometry>
        <mesh
          filename="package://meshes/left_thumb_3.STL" />
      </geometry>
      <material
        name="">
        <color
          rgba="0.792156862745098 0.819607843137255 0.933333333333333 1" />
      </material>
    </visual>
    <collision>
      <origin
        xyz="0 0 0"
        rpy="0 0 0" />
      <geometry>
        <mesh
          filename="package://meshes/left_thumb_3.STL" />
      </geometry>
    </collision>
  </link>
  <joint
    name="left_thumb_3_joint"
    type="revolute">
    <origin
      xyz="0.026828 0.02583 0.00315"
      rpy="0 0 0" />
    <parent
      link="left_thumb_2" />
    <child
      link="left_thumb_3" />
    <axis
      xyz="0 0 1" />
    <limit
      lower="0"
      upper="3.14"
      effort="10"
      velocity="1" />
    <mimic
        joint="left_thumb_2_joint"
        multiplier="0.60"
        offset="0" />
  </joint>
  <link
    name="left_thumb_4">
    <inertial>
      <origin
        xyz="0.0159972574626049 0.0063105797700872 0.0073433144647696"
        rpy="0 0 0" />
      <mass
        value="0.01" />
      <inertia
        ixx="6.4362640059723E-07"
        ixy="-2.57376746969386E-07"
        ixz="-8.63129696542143E-10"
        iyy="7.63678708562786E-07"
        iyz="-7.21288836303217E-10"
        izz="9.2570163408105E-07" />
    </inertial>
    <visual>
      <origin
        xyz="0 0 0"
        rpy="0 0 0" />
      <geometry>
        <mesh
          filename="package://meshes/left_thumb_4.STL" />
      </geometry>
      <material
        name="">
        <color
          rgba="0.792156862745098 0.819607843137255 0.933333333333333 1" />
      </material>
    </visual>
    <collision>
      <origin
        xyz="0 0 0"
        rpy="0 0 0" />
      <geometry>
        <mesh
          filename="package://meshes/left_thumb_4.STL" />
      </geometry>
    </collision>
  </link>
  <joint
    name="left_thumb_4_joint"
    type="revolute">
    <origin
      xyz="0.027027 0.0069965 -0.00145"
      rpy="0 0 0" />
    <parent
      link="left_thumb_3" />
    <child
      link="left_thumb_4" />
    <axis
      xyz="0 0 1" />
    <limit
      lower="0"
      upper="3.14"
      effort="10"
      velocity="1" />
    <mimic
        joint="left_thumb_2_joint"
        multiplier="0.8"
        offset="0" />
  </joint>
  <link
    name="left_index_1">
    <inertial>
      <origin
        xyz="-0.00183599258071257 0.0123544163382434 -0.00665152565125451"
        rpy="0 0 0" />
      <mass
        value="0.0071995003148682" />
      <inertia
        ixx="1.28363093823079E-06"
        ixy="4.22091506924093E-08"
        ixz="-1.1741465013013E-12"
        iyy="5.79447850871435E-07"
        iyz="-8.63816965731366E-11"
        izz="1.32914845722975E-06" />
    </inertial>
    <visual>
      <origin
        xyz="0 0 0"
        rpy="0 0 0" />
      <geometry>
        <mesh
          filename="package://meshes/left_index_1.STL" />
      </geometry>
      <material
        name="">
        <color
          rgba="0.792156862745098 0.819607843137255 0.933333333333333 1" />
      </material>
    </visual>
    <collision>
      <origin
        xyz="0 0 0"
        rpy="0 0 0" />
      <geometry>
        <mesh
          filename="package://meshes/left_index_1.STL" />
      </geometry>
    </collision>
  </link>
  <joint
    name="left_index_1_joint"
    type="revolute">
    <origin
      xyz="0.025387 -0.00056467 -0.15686"
      rpy="-1.6057 0 1.5708" />
    <parent
      link="l_hand_base_link" />
    <child
      link="left_index_1" />
    <axis
      xyz="0 0 1" />
    <limit
      lower="0"
      upper="1.6"
      effort="10"
      velocity="1" />
  </joint>
  <link
    name="left_index_2">
    <inertial>
      <origin
        xyz="0.000405420051948283 0.0257003783460073 -0.00610830787560272"
        rpy="0 0 0" />
      <mass
        value="0.00968688267109518" />
      <inertia
        ixx="2.25563043691857E-06"
        ixy="4.11282885240034E-07"
        ixz="3.87338024122588E-10"
        iyy="3.91279806505403E-07"
        iyz="-2.76559043550419E-09"
        izz="2.30247359295784E-06" />
    </inertial>
    <visual>
      <origin
        xyz="0 0 0"
        rpy="0 0 0" />
      <geometry>
        <mesh
          filename="package://meshes/left_index_2.STL" />
      </geometry>
      <material
        name="">
        <color
          rgba="0.792156862745098 0.819607843137255 0.933333333333333 1" />
      </material>
    </visual>
    <collision>
      <origin
        xyz="0 0 0"
        rpy="0 0 0" />
      <geometry>
        <mesh
          filename="package://meshes/left_index_2.STL" />
      </geometry>
    </collision>
  </link>
  <joint
    name="left_index_2_joint"
    type="revolute">
    <origin
      xyz="-0.0016312 0.032734 -0.00055"
      rpy="0 0 0" />
    <parent
      link="left_index_1" />
    <child
      link="left_index_2" />
    <axis
      xyz="0 0 1" />
    <limit
      lower="0"
      upper="3.14"
      effort="10"
      velocity="1" />
    <mimic
        joint="left_index_1_joint"
        multiplier="1.05"
        offset="0" />
  </joint>
  <link
    name="left_middle_1">
    <inertial>
      <origin
        xyz="-0.00229271394242232 0.0122778605414752 -0.00665151068667683"
        rpy="0 0 0" />
      <mass
        value="0.00719950322487974" />
      <inertia
        ixx="1.27951858905779E-06"
        ixy="6.81813021711596E-08"
        ixz="1.58551121583499E-12"
        iyy="5.83543537428452E-07"
        iyz="-8.56179612608701E-11"
        izz="1.32913234511164E-06" />
    </inertial>
    <visual>
      <origin
        xyz="0 0 0"
        rpy="0 0 0" />
      <geometry>
        <mesh
          filename="package://meshes/left_middle_1.STL" />
      </geometry>
      <material
        name="">
        <color
          rgba="0.792156862745098 0.819607843137255 0.933333333333333 1" />
      </material>
    </visual>
    <collision>
      <origin
        xyz="0 0 0"
        rpy="0 0 0" />
      <geometry>
        <mesh
          filename="package://meshes/left_middle_1.STL" />
      </geometry>
    </collision>
  </link>
  <joint
    name="left_middle_1_joint"
    type="revolute">
    <origin
      xyz="0.0037996 -0.00056467 -0.157"
      rpy="-1.5708 0 1.5708" />
    <parent
      link="l_hand_base_link" />
    <child
      link="left_middle_1" />
    <axis
      xyz="0 0 1" />
    <limit
      lower="0"
      upper="1.6"
      effort="1"
      velocity="1" />
  </joint>
  <link
    name="left_middle_2">
    <inertial>
      <origin
        xyz="7.51983994427274E-05 0.027448753770842 -0.00610022997575017"
        rpy="0 0 0" />
      <mass
        value="0.0104611931926301" />
      <inertia
        ixx="2.75831931773332E-06"
        ixy="4.66412841401028E-07"
        ixz="7.35766561775226E-12"
        iyy="4.22466538741155E-07"
        iyz="-1.79608426686769E-11"
        izz="2.80722617348706E-06" />
    </inertial>
    <visual>
      <origin
        xyz="0 0 0"
        rpy="0 0 0" />
      <geometry>
        <mesh
          filename="package://meshes/left_middle_2.STL" />
      </geometry>
      <material
        name="">
        <color
          rgba="0.792156862745098 0.819607843137255 0.933333333333333 1" />
      </material>
    </visual>
    <collision>
      <origin
        xyz="0 0 0"
        rpy="0 0 0" />
      <geometry>
        <mesh
          filename="package://meshes/left_middle_2.STL" />
      </geometry>
    </collision>
  </link>
  <joint
    name="left_middle_2_joint"
    type="revolute">
    <origin
      xyz="-0.0028436 0.032651 -0.00055"
      rpy="0 0 0" />
    <parent
      link="left_middle_1" />
    <child
      link="left_middle_2" />
    <axis
      xyz="0 0 1" />
    <limit
      lower="0"
      upper="3.14"
      effort="10"
      velocity="1" />
    <mimic
        joint="left_middle_1_joint"
        multiplier="1.05"
        offset="0" />
  </joint>
  <link
    name="left_ring_1">
    <inertial>
      <origin
        xyz="-0.00240530428455066 0.0122563079467745 -0.00665150968297497"
        rpy="0 0 0" />
      <mass
        value="0.00719949770218712" />
      <inertia
        ixx="1.27820682409824E-06"
        ixy="7.45572429780093E-08"
        ixz="2.25718181808859E-12"
        iyy="5.84853511073517E-07"
        iyz="-8.56222330411309E-11"
        izz="1.32913088941838E-06" />
    </inertial>
    <visual>
      <origin
        xyz="0 0 0"
        rpy="0 0 0" />
      <geometry>
        <mesh
          filename="package://meshes/left_ring_1.STL" />
      </geometry>
      <material
        name="">
        <color
          rgba="0.792156862745098 0.819607843137255 0.933333333333333 1" />
      </material>
    </visual>
    <collision>
      <origin
        xyz="0 0 0"
        rpy="0 0 0" />
      <geometry>
        <mesh
          filename="package://meshes/left_ring_1.STL" />
      </geometry>
    </collision>
  </link>
  <joint
    name="left_ring_1_joint"
    type="revolute">
    <origin
      xyz="-0.017813 -0.00056467 -0.15614"
      rpy="-1.5184 0 1.5708" />
    <parent
      link="l_hand_base_link" />
    <child
      link="left_ring_1" />
    <axis
      xyz="0 0 1" />
    <limit
      lower="0"
      upper="1.6"
      effort="10"
      velocity="1" />
  </joint>
  <link
    name="left_ring_2">
    <inertial>
      <origin
        xyz="0.000667145407605998 0.0256949163202511 -0.00610829894053159"
        rpy="0 0 0" />
      <mass
        value="0.00968685177133057" />
      <inertia
        ixx="2.26381138740299E-06"
        ixy="3.92210300202205E-07"
        ixz="3.58404653503583E-10"
        iyy="3.83095000534084E-07"
        iyz="-2.77027363965469E-09"
        izz="2.30247104599333E-06" />
    </inertial>
    <visual>
      <origin
        xyz="0 0 0"
        rpy="0 0 0" />
      <geometry>
        <mesh
          filename="package://meshes/left_ring_2.STL" />
      </geometry>
      <material
        name="">
        <color
          rgba="0.792156862745098 0.819607843137255 0.933333333333333 1" />
      </material>
    </visual>
    <collision>
      <origin
        xyz="0 0 0"
        rpy="0 0 0" />
      <geometry>
        <mesh
          filename="package://meshes/left_ring_2.STL" />
      </geometry>
    </collision>
  </link>
  <joint
    name="left_ring_2_joint"
    type="revolute">
    <origin
      xyz="-0.0031431 0.032624 -0.00055"
      rpy="0 0 0" />
    <parent
      link="left_ring_1" />
    <child
      link="left_ring_2" />
    <axis
      xyz="0 0 1" />
    <limit
      lower="0"
      upper="3.14"
      effort="10"
      velocity="1" />
    <mimic
        joint="left_ring_1_joint"
        multiplier="1.05"
        offset="0" />
  </joint>
  <link
    name="left_little_1">
    <inertial>
      <origin
        xyz="-0.00316889023513399 0.0120814769898197 -0.00665148964848"
        rpy="0 0 0" />
      <mass
        value="0.0071994553320001" />
      <inertia
        ixx="1.26614239360362E-06"
        ixy="1.17349328114653E-07"
        ixz="6.69925886240907E-12"
        iyy="5.96905140854994E-07"
        iyz="-8.54914063893311E-11"
        izz="1.32912203576944E-06" />
    </inertial>
    <visual>
      <origin
        xyz="0 0 0"
        rpy="0 0 0" />
      <geometry>
        <mesh
          filename="package://meshes/left_little_1.STL" />
      </geometry>
      <material
        name="">
        <color
          rgba="0.792156862745098 0.819607843137255 0.933333333333333 1" />
      </material>
    </visual>
    <collision>
      <origin
        xyz="0 0 0"
        rpy="0 0 0" />
      <geometry>
        <mesh
          filename="package://meshes/left_little_1.STL" />
      </geometry>
    </collision>
  </link>
  <joint
    name="left_little_1_joint"
    type="revolute">
    <origin
      xyz="-0.039144 -0.00056467 -0.15226"
      rpy="-1.4661 0 1.5708" />
    <parent
      link="l_hand_base_link" />
    <child
      link="left_little_1" />
    <axis
      xyz="0 0 1" />
    <limit
      lower="0"
      upper="1.6"
      effort="10"
      velocity="1" />
  </joint>
  <link
    name="left_little_2">
    <inertial>
      <origin
        xyz="0.00469503836926433 0.020441957551037 -0.0061004930536056"
        rpy="0 0 0" />
      <mass
        value="0.00759267726265222" />
      <inertia
        ixx="1.27661762368947E-06"
        ixy="7.27034842413144E-08"
        ixz="1.62724400979504E-12"
        iyy="2.31536498425727E-07"
        iyz="-9.71604458446237E-12"
        izz="1.23907231734916E-06" />
    </inertial>
    <visual>
      <origin
        xyz="0 0 0"
        rpy="0 0 0" />
      <geometry>
        <mesh
          filename="package://meshes/left_little_2.STL" />
      </geometry>
      <material
        name="">
        <color
          rgba="0.792156862745098 0.819607843137255 0.933333333333333 1" />
      </material>
    </visual>
    <collision>
      <origin
        xyz="0 0 0"
        rpy="0 0 0" />
      <geometry>
        <mesh
          filename="package://meshes/left_little_2.STL" />
      </geometry>
    </collision>
  </link>
  <joint
    name="left_little_2_joint"
    type="revolute">
    <origin
      xyz="-0.005182 0.032363 -0.00055"
      rpy="0 0 0" />
    <parent
      link="left_little_1" />
    <child
      link="left_little_2" />
    <axis
      xyz="0 0 1" />
    <limit
      lower="0"
      upper="3.14"
      effort="10"
      velocity="1" />
    <mimic
        joint="left_little_1_joint"
        multiplier="1.18"
        offset="0" />  
  </joint>


  <!-- 右臂末端和右手灵巧手的连接joint -->

  <joint name="r_arm_hand_joint" type="fixed">
    <origin xyz="0 0 0.03" rpy="3.14 0 0" />
    <parent link="r_link7" />
    <child link="r_hand_base_link" />
    <axis xyz="0 0 0" />
  </joint>

  <!-- 右手灵巧手 -->

  <link name="r_hand_base_link">
    <inertial>
      <origin xyz="-0.0076829 0.084945 0.0022169" rpy="0 0 0" />
      <mass value="0.19138" />
      <inertia ixx="0.00049799" ixy="-3.4485E-06" ixz="4.4175E-05" iyy="0.00019084" iyz="5.0341E-06" izz="0.00049545" />
    </inertial>
    <visual>
      <origin xyz="0 0 0" rpy="0 0 0" />
      <geometry>
        <mesh filename="package://meshes/r_hand_base_link.STL" />
      </geometry>
      <material name="">
        <color rgba="0.75294 0.75294 0.75294 1" />
      </material>
    </visual>
    <collision>
      <origin xyz="0 0 0" rpy="0 0 0" />
      <geometry>
        <mesh filename="package://meshes/r_hand_base_link.STL" />
      </geometry>
    </collision>
  </link>
  
  <link
    name="right_thumb_1">
    <inertial>
      <origin
        xyz="-0.00178423179132732 0.000649410769092404 0.00488589310434417"
        rpy="0 0 0" />
      <mass
        value="0.00115518743162309" />
      <inertia
        ixx="5.98911473694571E-08"
        ixy="-8.04324266712912E-09"
        ixz="-3.29346964287939E-09"
        iyy="4.07201940087006E-08"
        iyz="1.1987242259973E-09"
        izz="6.18161684388651E-08" />
    </inertial>
    <visual>
      <origin
        xyz="0 0 0"
        rpy="0 0 0" />
      <geometry>
        <mesh
          filename="package://meshes/right_thumb_1.STL" />
      </geometry>
      <material
        name="">
        <color
          rgba="1 1 1 1" />
      </material>
    </visual>
    <collision>
      <origin
        xyz="0 0 0"
        rpy="0 0 0" />
      <geometry>
        <mesh
          filename="package://meshes/right_thumb_1.STL" />
      </geometry>
    </collision>
  </link>
  <joint
    name="right_thumb_1_joint"
    type="revolute">
    <origin
      xyz="0.0269 0.02101 -0.069"
      rpy="-3.1416 0 -3.1416" />
    <parent
      link="r_hand_base_link" />
    <child
      link="right_thumb_1" />
    <axis
      xyz="0 0 -1" />
    <limit
      lower="0"
      upper="1.15"
      effort="10"
      velocity="1" />
  </joint>
  <link
    name="right_thumb_2">
    <inertial>
      <origin
        xyz="0.0141071308121962 0.0132720367246953 -0.00905029680056009"
        rpy="0 0 0" />
      <mass
        value="0.016" />
      <inertia
        ixx="1.06573287501608E-06"
        ixy="-7.61985755293293E-08"
        ixz="-2.57609628655293E-11"
        iyy="1.06536320559038E-06"
        iyz="5.09603163270097E-12"
        izz="1.39688473195303E-06" />
    </inertial>
    <visual>
      <origin
        xyz="0 0 0"
        rpy="0 0 0" />
      <geometry>
        <mesh
          filename="package://meshes/right_thumb_2.STL" />
      </geometry>
      <material
        name="">
        <color
          rgba="1 1 1 1" />
      </material>
    </visual>
    <collision>
      <origin
        xyz="0 0 0"
        rpy="0 0 0" />
      <geometry>
        <mesh
          filename="package://meshes/right_thumb_2.STL" />
      </geometry>
    </collision>
  </link>
  <joint
    name="right_thumb_2_joint"
    type="revolute">
    <origin
      xyz="-0.0063016 0.011924 0.003"
      rpy="1.5708 0 2.7925" />
    <parent
      link="right_thumb_1" />
    <child
      link="right_thumb_2" />
    <axis
      xyz="0 0 1" />
    <limit
      lower="0"
      upper="0.55"
      effort="10"
      velocity="1" />
  </joint>
  <link
    name="right_thumb_3">
    <inertial>
      <origin
        xyz="0.00937843602210774 0.00404407714692963 -0.00753947150343212"
        rpy="0 0 0" />
      <mass
        value="0.012" />
      <inertia
        ixx="4.67837152048068E-07"
        ixy="-4.50034504480504E-08"
        ixz="-7.50604972036399E-11"
        iyy="3.98821847444202E-07"
        iyz="-2.80308780973008E-10"
        izz="4.24792779381109E-07" />
    </inertial>
    <visual>
      <origin
        xyz="0 0 0"
        rpy="0 0 0" />
      <geometry>
        <mesh
          filename="package://meshes/right_thumb_3.STL" />
      </geometry>
      <material
        name="">
        <color
          rgba="1 1 1 1" />
      </material>
    </visual>
    <collision>
      <origin
        xyz="0 0 0"
        rpy="0 0 0" />
      <geometry>
        <mesh
          filename="package://meshes/right_thumb_3.STL" />
      </geometry>
    </collision>
  </link>
  <joint
    name="right_thumb_3_joint"
    type="revolute">
    <origin
      xyz="0.034968 0.021325 -0.0015"
      rpy="0 0 0" />
    <parent
      link="right_thumb_2" />
    <child
      link="right_thumb_3" />
    <axis
      xyz="0 0 1" />
    <limit
      lower="0"
      upper="3.14"
      effort="10"
      velocity="1" />
    <mimic
        joint="right_thumb_2_joint"
        multiplier="0.60"
        offset="0" />
  </joint>
  <link
    name="right_thumb_4">
    <inertial>
      <origin
        xyz="0.0109973997213043 0.00131062737520288 -0.0073435196000655"
        rpy="0 0 0" />
      <mass
        value="0.01" />
      <inertia
        ixx="6.43617695804108E-07"
        ixy="-2.57371067432159E-07"
        ixz="8.83834214745077E-10"
        iyy="7.63665185138253E-07"
        iyz="7.47494238463672E-10"
        izz="9.2568863295396E-07" />
    </inertial>
    <visual>
      <origin
        xyz="0 0 0"
        rpy="0 0 0" />
      <geometry>
        <mesh
          filename="package://meshes/right_thumb_4.STL" />
      </geometry>
      <material
        name="">
        <color
          rgba="1 1 1 1" />
      </material>
    </visual>
    <collision>
      <origin
        xyz="0 0 0"
        rpy="0 0 0" />
      <geometry>
        <mesh
          filename="package://meshes/right_thumb_4.STL" />
      </geometry>
    </collision>
  </link>
  <joint
    name="right_thumb_4_joint"
    type="revolute">
    <origin
      xyz="0.018887 0.011501 -0.0002"
      rpy="0 0 0" />
    <parent
      link="right_thumb_3" />
    <child
      link="right_thumb_4" />
    <axis
      xyz="0 0 1" />
    <limit
      lower="0"
      upper="3.14"
      effort="10"
      velocity="1" />
    <mimic
        joint="right_thumb_2_joint"
        multiplier="0.8"
        offset="0" />
  </joint>
  <link
    name="right_index_1">
    <inertial>
      <origin
        xyz="-0.00183546255523356 0.0123552521861834 -0.00664922294778368"
        rpy="0 0 0" />
      <mass
        value="0.00719999389753264" />
      <inertia
        ixx="1.28371991025318E-06"
        ixy="4.21564829206078E-08"
        ixz="-4.10859703056649E-12"
        iyy="5.79478432222904E-07"
        iyz="6.39690407239206E-11"
        izz="1.32925246769088E-06" />
    </inertial>
    <visual>
      <origin
        xyz="0 0 0"
        rpy="0 0 0" />
      <geometry>
        <mesh
          filename="package://meshes/right_index_1.STL" />
      </geometry>
      <material
        name="">
        <color
          rgba="1 1 1 1" />
      </material>
    </visual>
    <collision>
      <origin
        xyz="0 0 0"
        rpy="0 0 0" />
      <geometry>
        <mesh
          filename="package://meshes/right_index_1.STL" />
      </geometry>
    </collision>
  </link>
  <joint
    name="right_index_1_joint"
    type="revolute">
    <origin
      xyz="0.038679 0.00056467 -0.1564"
      rpy="-1.5359 0 -1.5708" />
    <parent
      link="r_hand_base_link" />
    <child
      link="right_index_1" />
    <axis
      xyz="0 0 1" />
    <limit
      lower="0"
      upper="1.6"
      effort="10"
      velocity="1" />
  </joint>
  <link
    name="right_index_2">
    <inertial>
      <origin
        xyz="0.000405081354201142 0.0257028143581744 -0.00609275623125877"
        rpy="0 0 0" />
      <mass
        value="0.0096859422185797" />
      <inertia
        ixx="2.25513837942244E-06"
        ixy="4.11239564383381E-07"
        ixz="-3.94499739658711E-10"
        iyy="3.91290903748666E-07"
        iyz="2.79706871963245E-09"
        izz="2.30200483771215E-06" />
    </inertial>
    <visual>
      <origin
        xyz="0 0 0"
        rpy="0 0 0" />
      <geometry>
        <mesh
          filename="package://meshes/right_index_2.STL" />
      </geometry>
      <material
        name="">
        <color
          rgba="1 1 1 1" />
      </material>
    </visual>
    <collision>
      <origin
        xyz="0 0 0"
        rpy="0 0 0" />
      <geometry>
        <mesh
          filename="package://meshes/right_index_2.STL" />
      </geometry>
    </collision>
  </link>
  <joint
    name="right_index_2_joint"
    type="revolute">
    <origin
      xyz="-0.0016312 0.032734 -0.00055"
      rpy="0 0 0" />
    <parent
      link="right_index_1" />
    <child
      link="right_index_2" />
    <axis
      xyz="0 0 1" />
    <limit
      lower="0"
      upper="3.14"
      effort="10"
      velocity="1" />
    <mimic
        joint="right_index_1_joint"
        multiplier="1.05"
        offset="0" />
  </joint>
  <link
    name="right_middle_1">
    <inertial>
      <origin
        xyz="-0.00229221489529491 0.0122787164691098 -0.00664923691414206"
        rpy="0 0 0" />
      <mass
        value="0.00719999454699651" />
      <inertia
        ixx="1.27961146095209E-06"
        ixy="6.81307502326408E-08"
        ixz="-6.13869092479439E-12"
        iyy="5.83570383259162E-07"
        iyz="6.33401074034573E-11"
        izz="1.32923656099557E-06" />
    </inertial>
    <visual>
      <origin
        xyz="0 0 0"
        rpy="0 0 0" />
      <geometry>
        <mesh
          filename="package://meshes/right_middle_1.STL" />
      </geometry>
      <material
        name="">
        <color
          rgba="1 1 1 1" />
      </material>
    </visual>
    <collision>
      <origin
        xyz="0 0 0"
        rpy="0 0 0" />
      <geometry>
        <mesh
          filename="package://meshes/right_middle_1.STL" />
      </geometry>
    </collision>
  </link>
  <joint
    name="right_middle_1_joint"
    type="revolute">
    <origin
      xyz="0.0171 0.00056467 -0.157"
      rpy="-1.5708 0 -1.5708" />
    <parent
      link="r_hand_base_link" />
    <child
      link="right_middle_1" />
    <axis
      xyz="0 0 1" />
    <limit
      lower="0"
      upper="1.6"
      effort="10"
      velocity="1" />
  </joint>
  <link
    name="right_middle_2">
    <inertial>
      <origin
        xyz="7.55635061812504E-05 0.0274472409700489 -0.00610051225570537"
        rpy="0 0 0" />
      <mass
        value="0.0104603374357648" />
      <inertia
        ixx="2.75802690517233E-06"
        ixy="4.66354191789105E-07"
        ixz="-3.73412436067728E-12"
        iyy="4.22418749660047E-07"
        iyz="7.48571284682703E-11"
        izz="2.80694637912416E-06" />
    </inertial>
    <visual>
      <origin
        xyz="0 0 0"
        rpy="0 0 0" />
      <geometry>
        <mesh
          filename="package://meshes/right_middle_2.STL" />
      </geometry>
      <material
        name="">
        <color
          rgba="1 1 1 1" />
      </material>
    </visual>
    <collision>
      <origin
        xyz="0 0 0"
        rpy="0 0 0" />
      <geometry>
        <mesh
          filename="package://meshes/right_middle_2.STL" />
      </geometry>
    </collision>
  </link>
  <joint
    name="right_middle_2_joint"
    type="revolute">
    <origin
      xyz="-0.0028436 0.032651 -0.00055"
      rpy="0 0 0" />
    <parent
      link="right_middle_1" />
    <child
      link="right_middle_2" />
    <axis
      xyz="0 0 1" />
    <limit
      lower="0"
      upper="3.14"
      effort="10"
      velocity="1" />
    <mimic
        joint="right_middle_1_joint"
        multiplier="1.05"
        offset="0" />
  </joint>
  <link
    name="right_ring_1">
    <inertial>
      <origin
        xyz="-0.00240481178777661 0.0122571709475593 -0.00664923625225445"
        rpy="0 0 0" />
      <mass
        value="0.00719998997814135" />
      <inertia
        ixx="1.27830103769765E-06"
        ixy="7.45073064952646E-08"
        ixz="-6.73880804360017E-12"
        iyy="5.84879553082369E-07"
        iyz="6.3350585052199E-11"
        izz="1.32923557625193E-06" />
    </inertial>
    <visual>
      <origin
        xyz="0 0 0"
        rpy="0 0 0" />
      <geometry>
        <mesh
          filename="package://meshes/right_ring_1.STL" />
      </geometry>
      <material
        name="">
        <color
          rgba="1 1 1 1" />
      </material>
    </visual>
    <collision>
      <origin
        xyz="0 0 0"
        rpy="0 0 0" />
      <geometry>
        <mesh
          filename="package://meshes/right_ring_1.STL" />
      </geometry>
    </collision>
  </link>
  <joint
    name="right_ring_1_joint"
    type="revolute">
    <origin
      xyz="-0.0045302 0.00056467 -0.15683"
      rpy="-1.6232 0 -1.5708" />
    <parent
      link="r_hand_base_link" />
    <child
      link="right_ring_1" />
    <axis
      xyz="0 0 1" />
    <limit
      lower="0"
      upper="1.6"
      effort="10"
      velocity="1" />
  </joint>
  <link
    name="right_ring_2">
    <inertial>
      <origin
        xyz="0.000666830906754845 0.0256973412492289 -0.0060927714564012"
        rpy="0 0 0" />
      <mass
        value="0.0096859390369724" />
      <inertia
        ixx="2.26332196405867E-06"
        ixy="3.92172318180451E-07"
        ixz="-3.65715440420713E-10"
        iyy="3.83108005467821E-07"
        iyz="2.80158649618184E-09"
        izz="2.30200501593561E-06" />
    </inertial>
    <visual>
      <origin
        xyz="0 0 0"
        rpy="0 0 0" />
      <geometry>
        <mesh
          filename="package://meshes/right_ring_2.STL" />
      </geometry>
      <material
        name="">
        <color
          rgba="1 1 1 1" />
      </material>
    </visual>
    <collision>
      <origin
        xyz="0 0 0"
        rpy="0 0 0" />
      <geometry>
        <mesh
          filename="package://meshes/right_ring_2.STL" />
      </geometry>
    </collision>
  </link>
  <joint
    name="right_ring_2_joint"
    type="revolute">
    <origin
      xyz="-0.0031431 0.032624 -0.00055"
      rpy="0 0 0" />
    <parent
      link="right_ring_1" />
    <child
      link="right_ring_2" />
    <axis
      xyz="0 0 1" />
    <limit
      lower="0"
      upper="3.14"
      effort="10"
      velocity="1" />
    <mimic
        joint="right_ring_1_joint"
        multiplier="1.05"
        offset="0" />
  </joint>
  <link
    name="right_little_1">
    <inertial>
      <origin
        xyz="-0.00316844591541324 0.0120823779446085 -0.00664923024026526"
        rpy="0 0 0" />
      <mass
        value="0.00719994987013217" />
      <inertia
        ixx="1.26624415714453E-06"
        ixy="1.17303714016617E-07"
        ixz="-1.15327375313821E-11"
        iyy="5.96925804604496E-07"
        iyz="6.36110319315301E-11"
        izz="1.32922857962206E-06" />
    </inertial>
    <visual>
      <origin
        xyz="0 0 0"
        rpy="0 0 0" />
      <geometry>
        <mesh
          filename="package://meshes/right_little_1.STL" />
      </geometry>
      <material
        name="">
        <color
          rgba="1 1 1 1" />
      </material>
    </visual>
    <collision>
      <origin
        xyz="0 0 0"
        rpy="0 0 0" />
      <geometry>
        <mesh
          filename="package://meshes/right_little_1.STL" />
      </geometry>
    </collision>
  </link>
  <joint
    name="right_little_1_joint"
    type="revolute">
    <origin
      xyz="-0.025916 0.00056467 -0.15365"
      rpy="-1.6755 0 -1.5708" />
    <parent
      link="r_hand_base_link" />
    <child
      link="right_little_1" />
    <axis
      xyz="0 0 1" />
    <limit
      lower="0"
      upper="1.6"
      effort="10"
      velocity="1" />
  </joint>
  <link
    name="right_little_2">
    <inertial>
      <origin
        xyz="0.0204417303421136 -0.00469494170410353 -0.00609999668427265"
        rpy="0 0 0" />
      <mass
        value="0.0075928240732547" />
      <inertia
        ixx="2.31546812157118E-07"
        ixy="-7.27021381773956E-08"
        ixz="2.3664966486269E-11"
        iyy="1.27663957628266E-06"
        iyz="-7.58283070676144E-12"
        izz="1.23909562166535E-06" />
    </inertial>
    <visual>
      <origin
        xyz="0 0 0"
        rpy="0 0 0" />
      <geometry>
        <mesh
          filename="package://meshes/right_little_2.STL" />
      </geometry>
      <material
        name="">
        <color
          rgba="1 1 1 1" />
      </material>
    </visual>
    <collision>
      <origin
        xyz="0 0 0"
        rpy="0 0 0" />
      <geometry>
        <mesh
          filename="package://meshes/right_little_2.STL" />
      </geometry>
    </collision>
  </link>
  <joint
    name="right_little_2_joint"
    type="revolute">
    <origin
      xyz="-0.005182 0.032363 -0.00055"
      rpy="0 0 1.5708" />
    <parent
      link="right_little_1" />
    <child
      link="right_little_2" />
    <axis
      xyz="0 0 1" />
    <limit
      lower="0"
      upper="3.14"
      effort="10"
      velocity="1" />
    <mimic
        joint="right_little_1_joint"
        multiplier="1.18"
        offset="0" />  
  </joint>

</robot>
